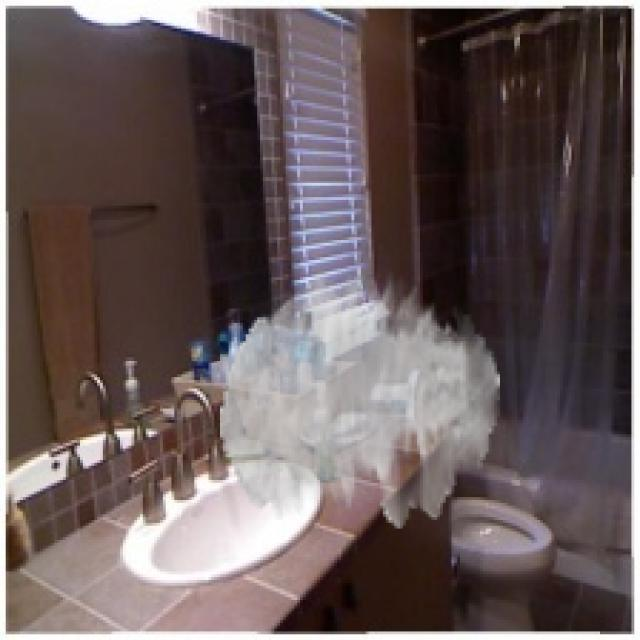Smoke: (220, 268, 500, 528)
